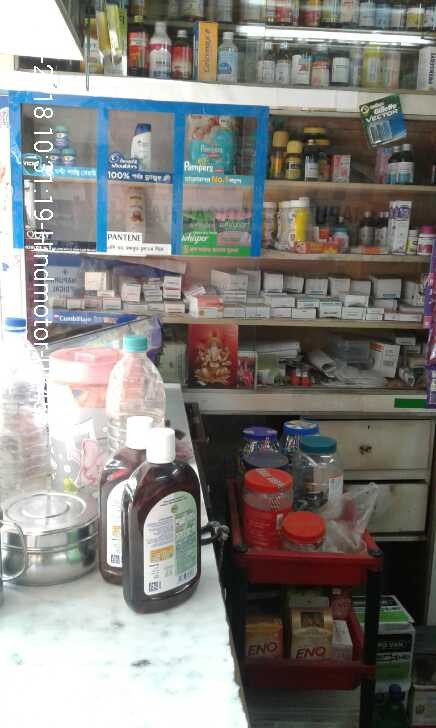vicks: (43, 124, 79, 169)
